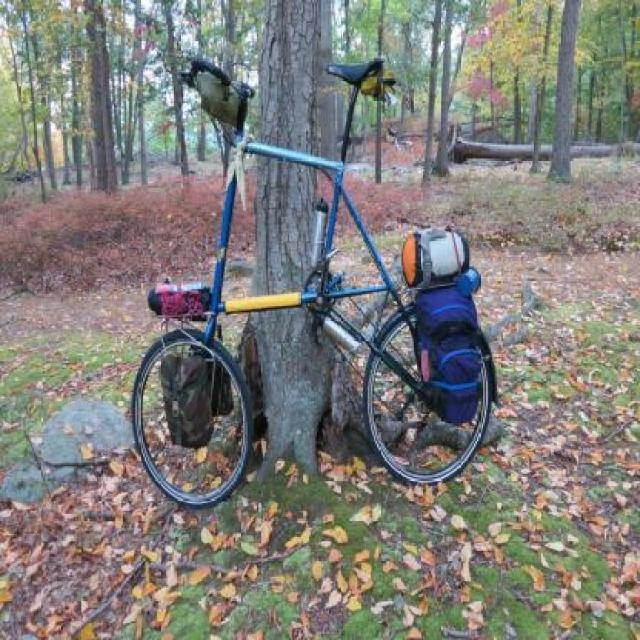backpack: (415, 285, 483, 426)
